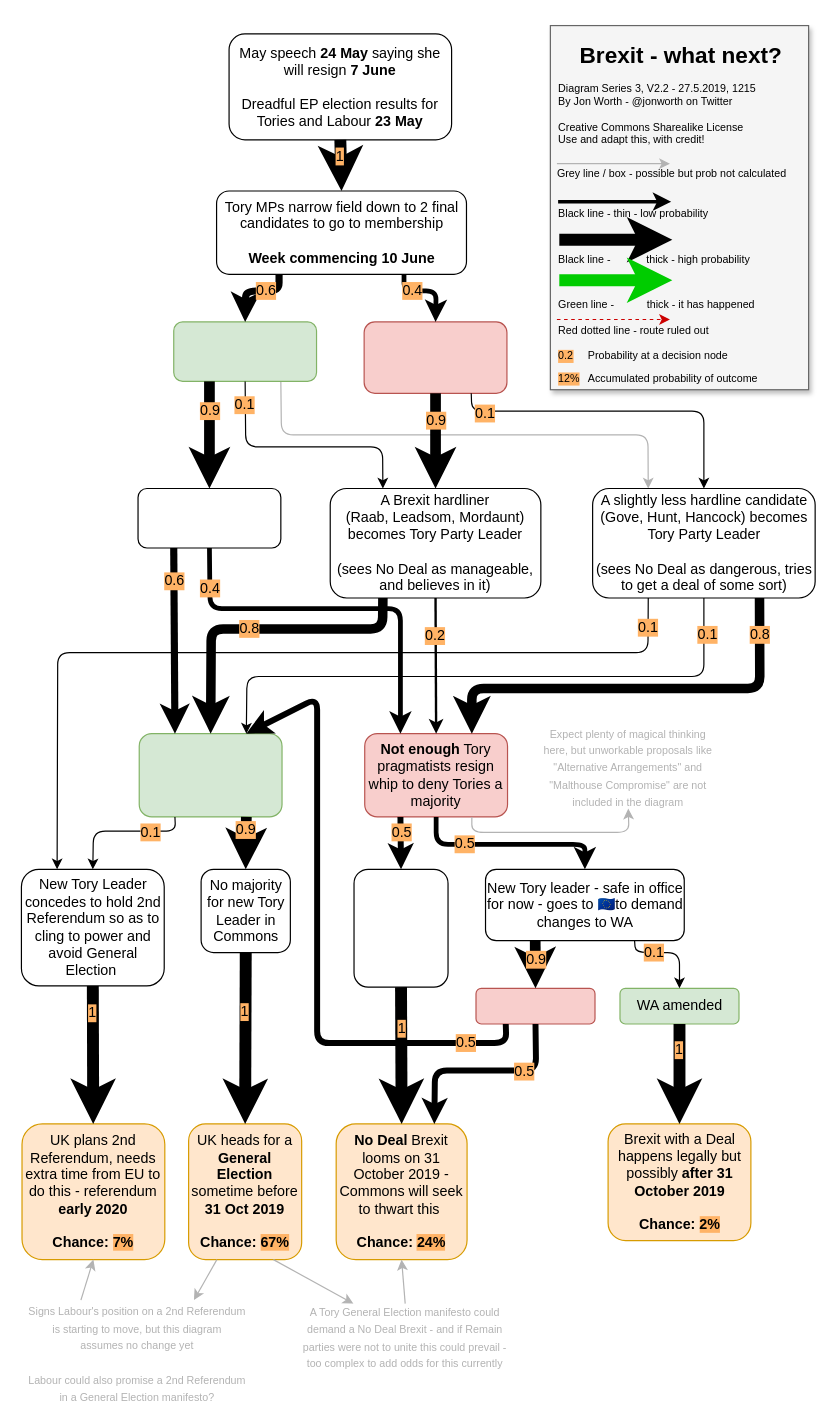
The diagram is 837 pixels wide and 1428 high, and some of its shapes have lost their labels. The shapes that lost their labels are listed below. From the top down, each one's centre as x and y in pixels, then its label:
At (x=245, y=351): "Boris Johnson makes it to final 2".
At (x=435, y=357): "Boris Johnson doesn't make it to final 2".
At (x=209, y=517): "Johnson becomes Tory Party Leader".
At (x=210, y=774): "Enough Tory pragmatists resign whip to deny Tories a majority".
At (x=400, y=927): "New Tory leader sees no route other than No Deal Brexit".
At (x=535, y=1005): "WA not amended".
